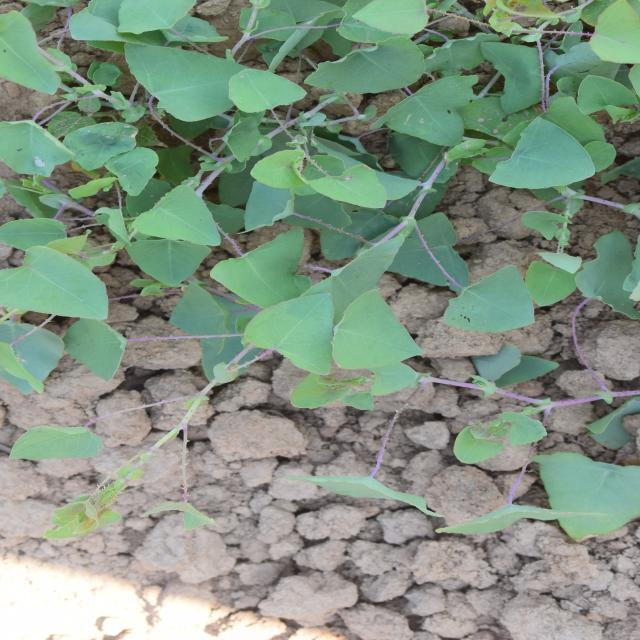Asiatic_Smartweed: (263, 206, 434, 539), (97, 13, 259, 214), (242, 0, 429, 143), (503, 298, 640, 473), (528, 109, 640, 299)
